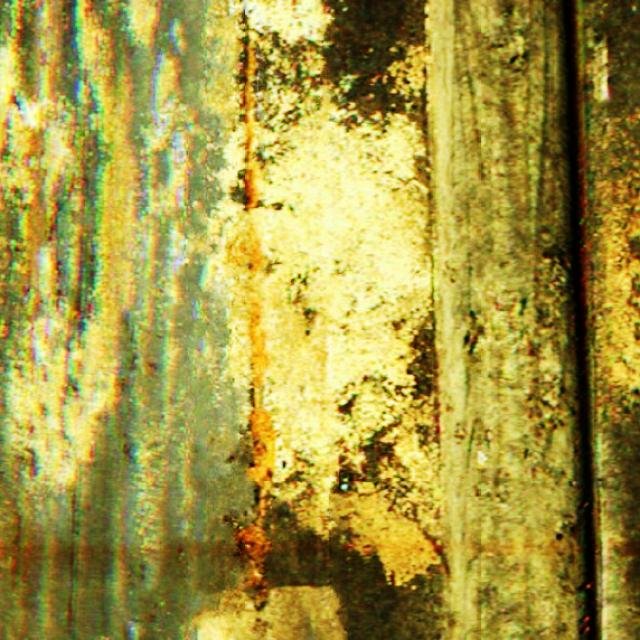Corrosion: (233, 405, 281, 607), (242, 46, 259, 209), (248, 294, 271, 393), (226, 221, 261, 281)
